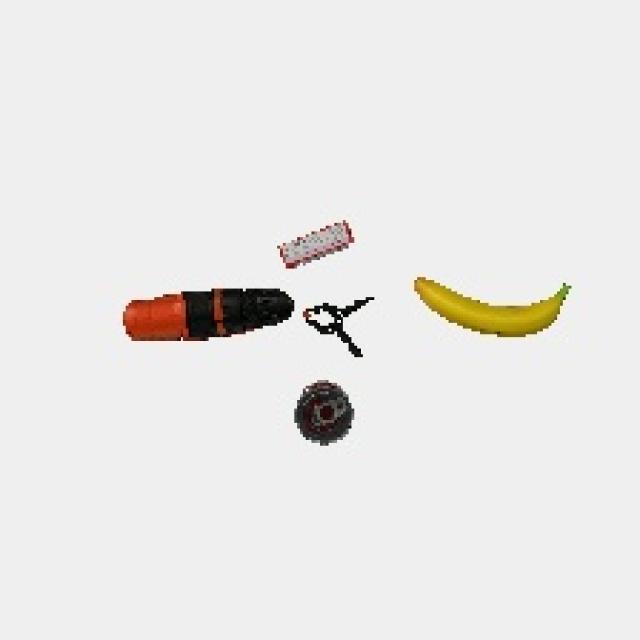Banana: (408, 264, 579, 350)
GelatinBox: (270, 215, 364, 278)
MediumClamp: (301, 296, 383, 358)
PowerDrill: (120, 285, 298, 356)
TomatoSoupCan: (291, 377, 361, 451)
